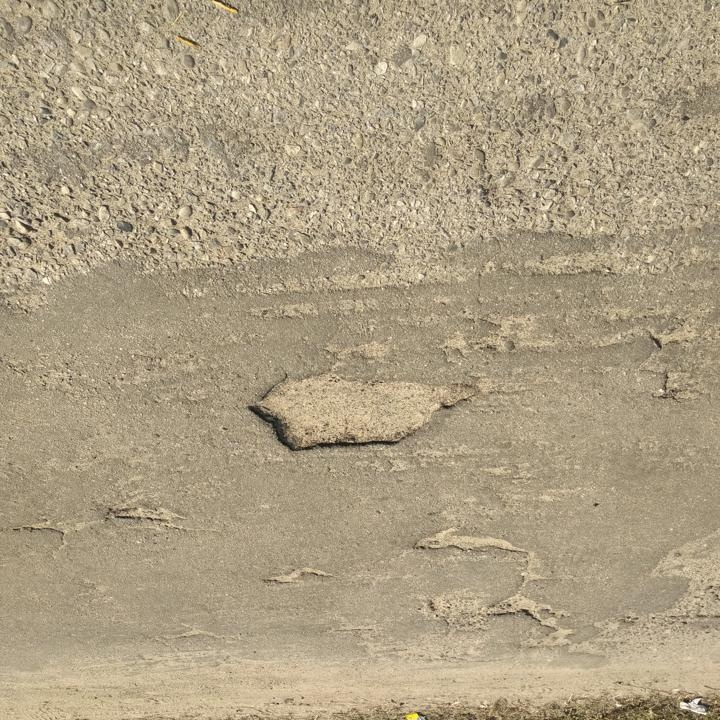pothole: (242, 371, 475, 457), (482, 592, 569, 633), (407, 535, 532, 554)
